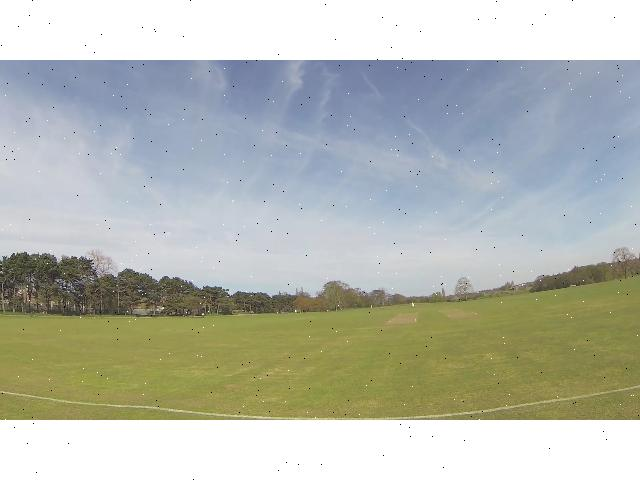Anti-Drone: (222, 97, 234, 104)
